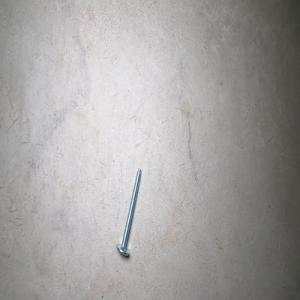Bolt: (115, 166, 141, 256)
